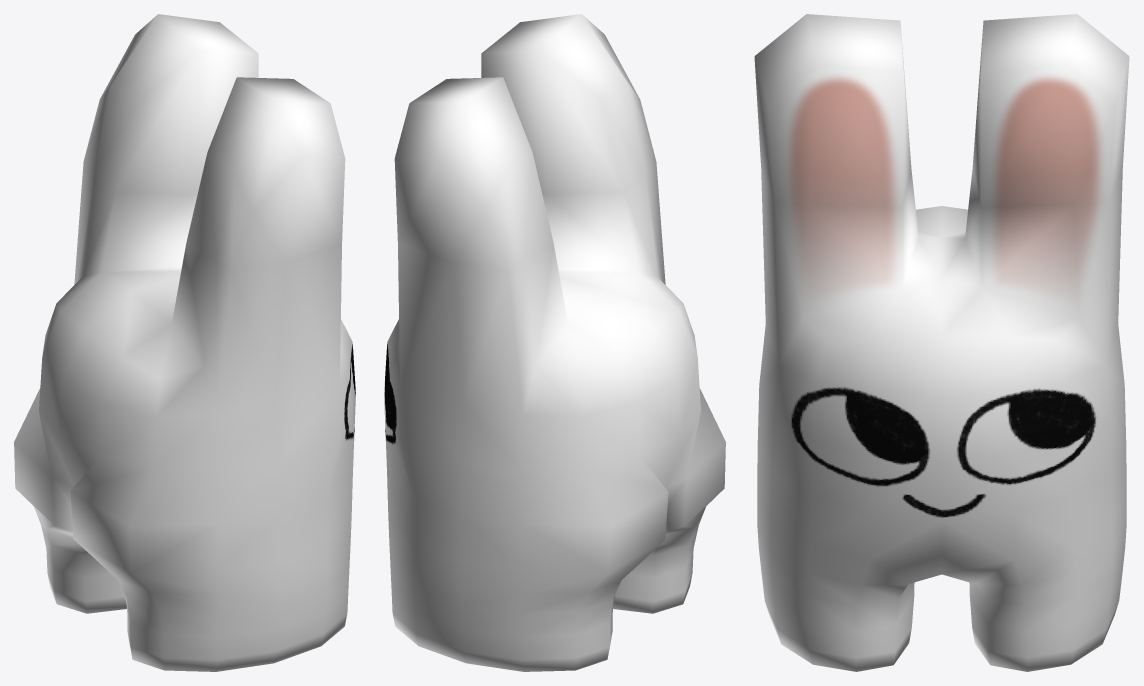
Rendered from bunny.glb.
The picture shows the model from 3 angles, left to right: view 1: azimuth 30°, elevation 25°; view 2: azimuth 150°, elevation 25°; view 3: azimuth 270°, elevation 25°; orthographic projection. The views are drawn at different scales.
Visible parts, largest first — view 1: Cube.005; view 2: Cube.005; view 3: Cube.005.
Boxes of the visible parts, x1=… form: Cube.005: x1=14, y1=14, x2=355, y2=671; Cube.005: x1=384, y1=14, x2=725, y2=671; Cube.005: x1=754, y1=14, x2=1129, y2=671.
Bounding box in the file's own units: 4.75 × 9.06 × 4.97.
Materials: 1 (1 with a texture image).
